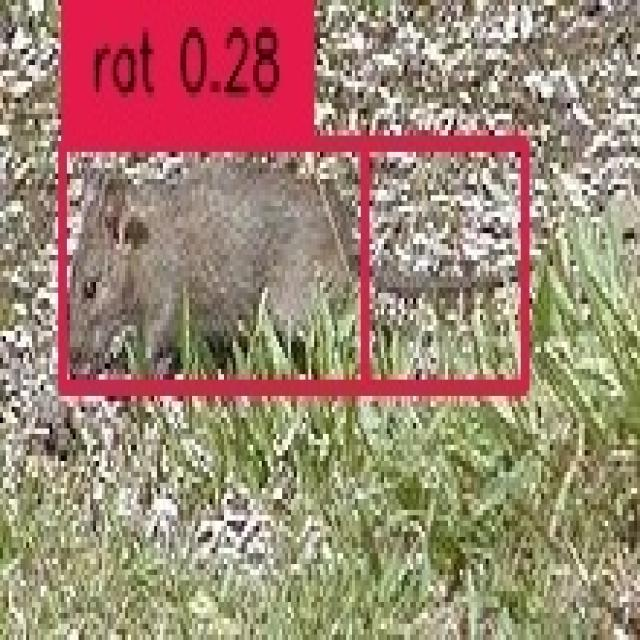rat: (58, 136, 521, 380), (58, 136, 361, 380)
